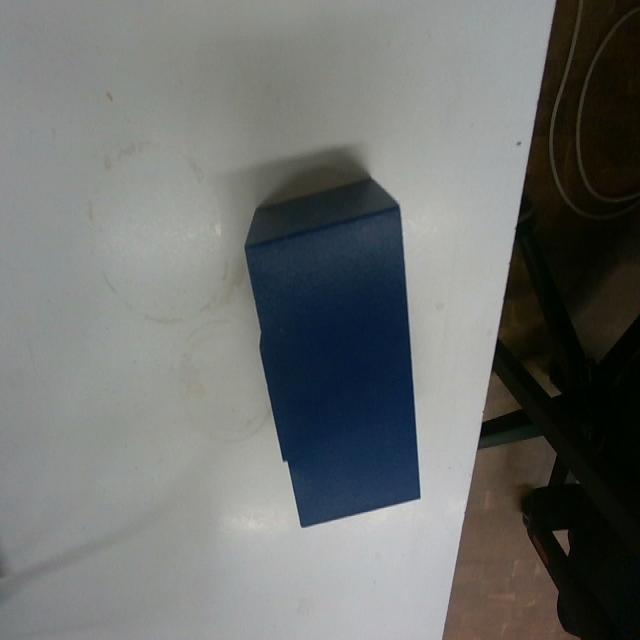Blue Cuboid: (242, 172, 423, 528)
